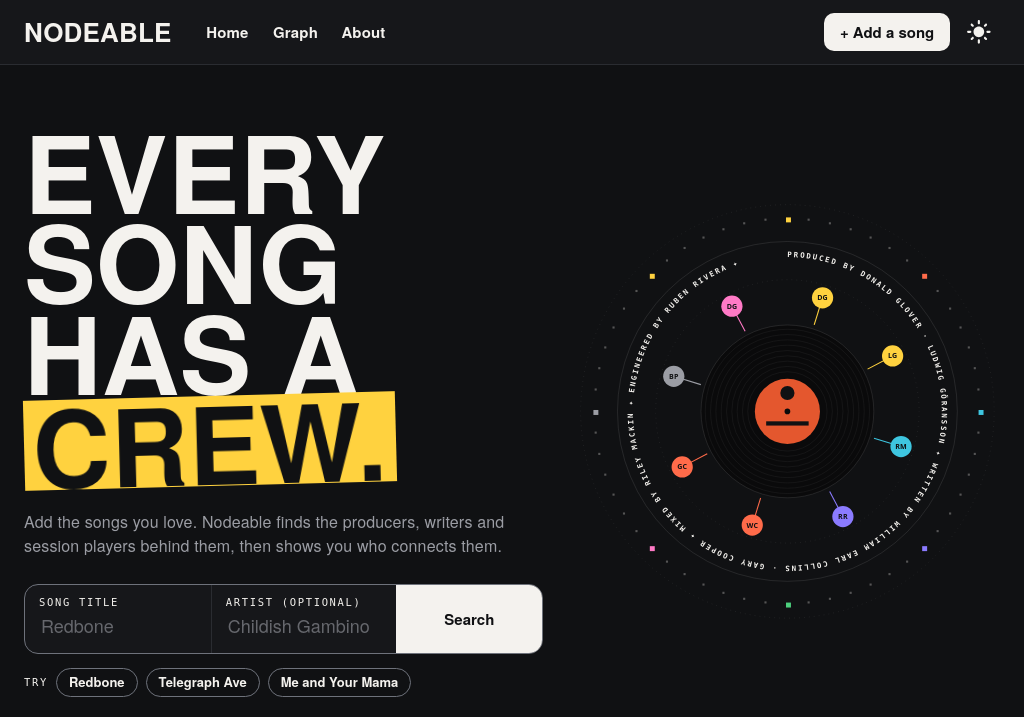
Test: landing page › FR_SEARCH_01 runs a suggested search when its chip is chosen
The width and height of the screenshot is (1024, 717).
Click the button "Redbone". click: (97,683)
box: [56, 668, 138, 697]
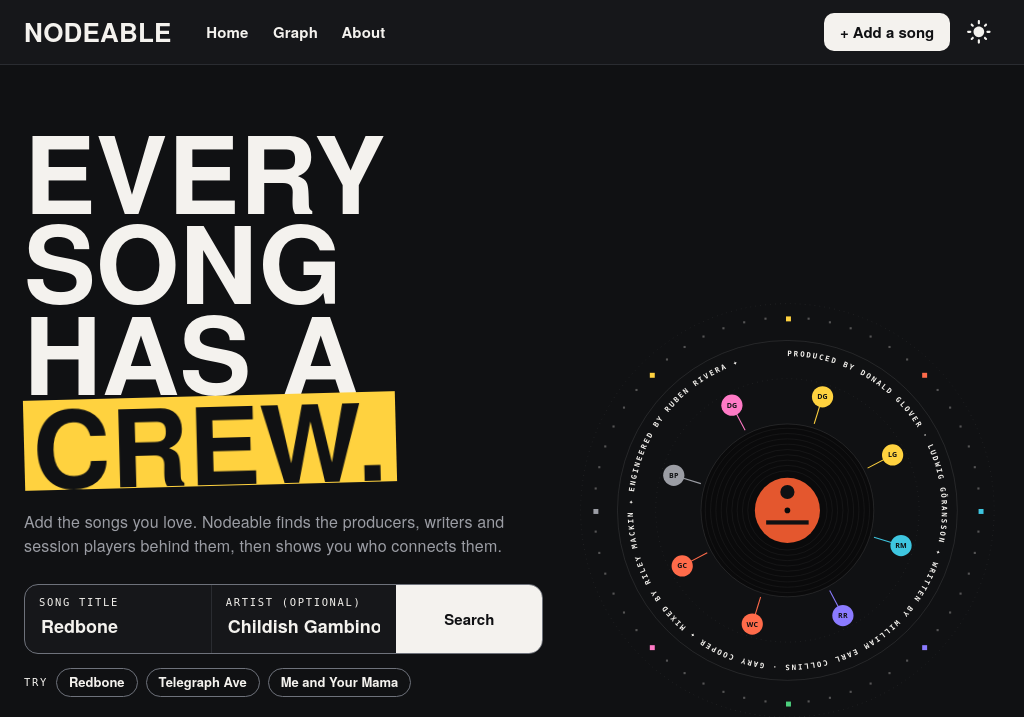
Now the field labelled "Song title" holds "Redbone", box [39, 610, 197, 643]
